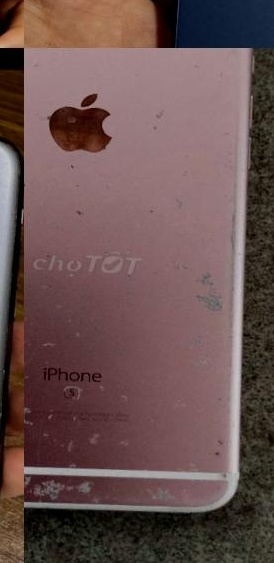scratch: (24, 275, 162, 449), (24, 447, 242, 519), (28, 84, 120, 161), (24, 170, 101, 226), (185, 255, 238, 330), (150, 83, 178, 147), (213, 409, 236, 469), (177, 187, 204, 223)
